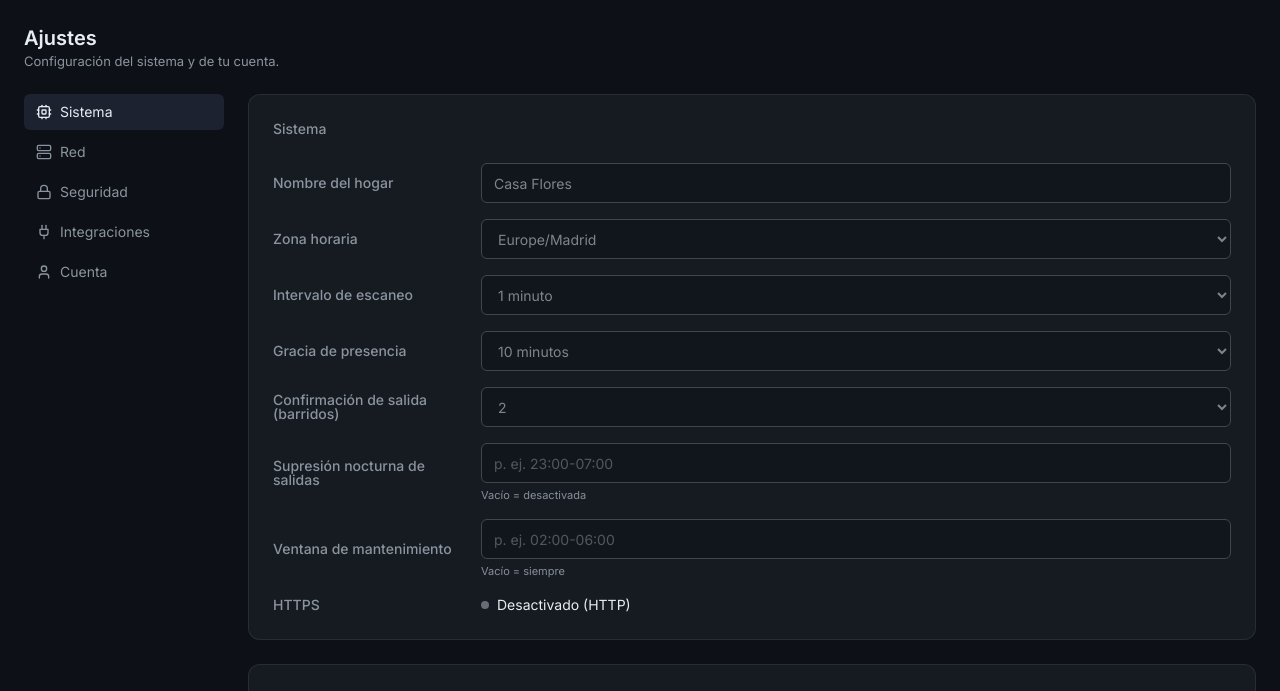
it: SettingsPage › la sección Cuenta muestra los datos del usuario
The width and height of the screenshot is (1280, 691).
Click the button "Cuenta" at [124, 272], box [24, 254, 224, 290]
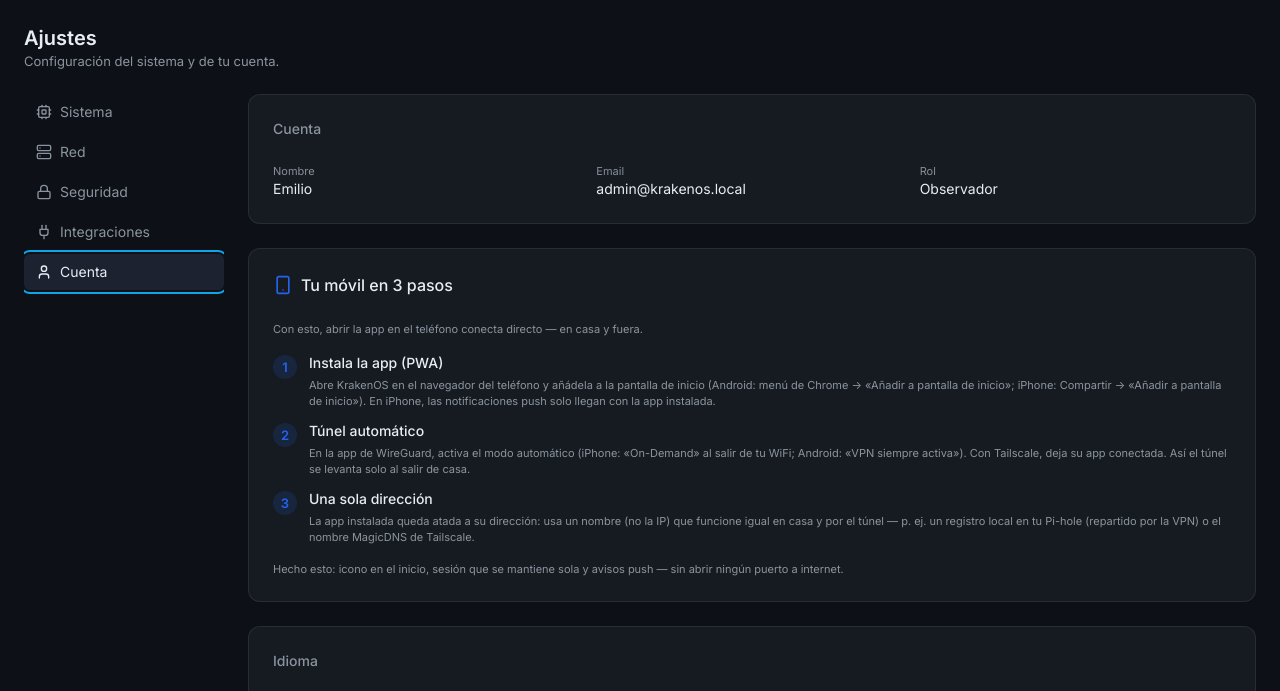
Expected: the text "Emilio" is shown, [273, 180, 312, 197]
Expected: the text "admin@krakenos.local" is shown, [596, 180, 746, 197]
Expected: the text "Observador" is shown, [920, 180, 998, 197]
